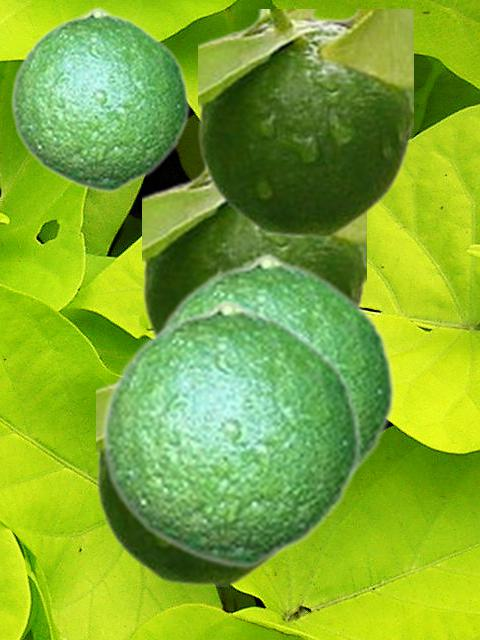dalandan: (99, 298, 361, 568), (154, 252, 395, 475), (198, 9, 412, 236), (142, 161, 365, 335), (96, 378, 282, 585), (9, 6, 189, 192)
